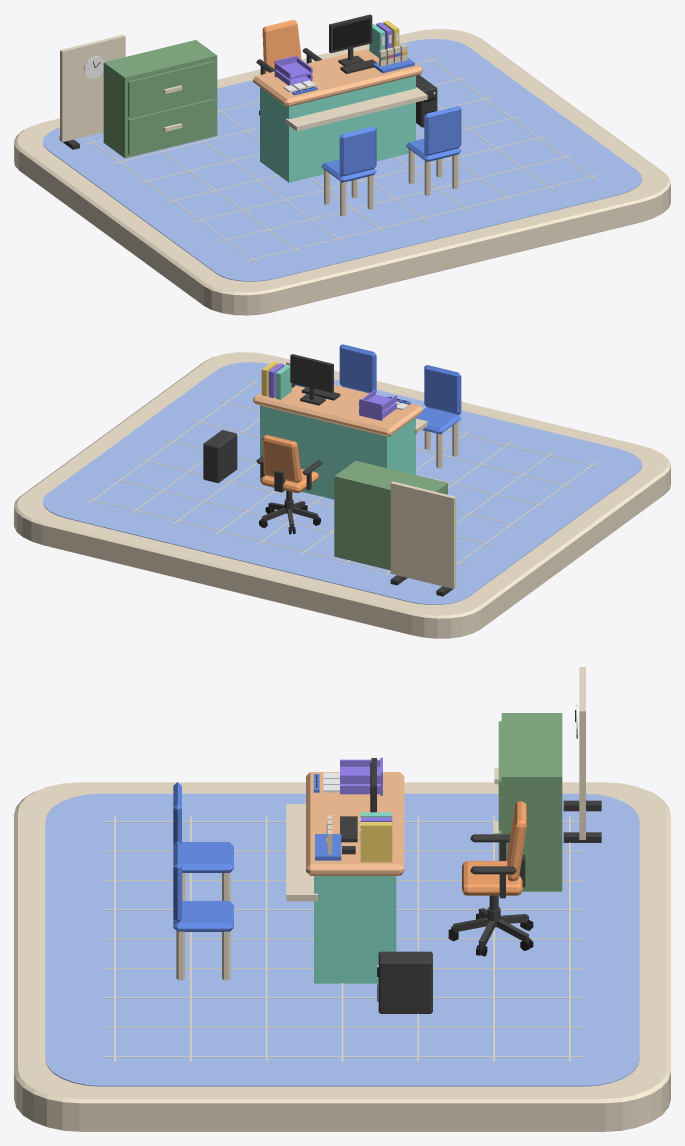
Rendered from room.fbx.
3 views of the same model, one above another, from view 1: azimuth 30°, elevation 25°; view 2: azimuth 150°, elevation 25°; view 3: azimuth 270°, elevation 25° (orthographic). The views are drawn at different scales.
Visible parts, largest first — view 1: COM-02 Floor Surface, COM-01 Rounded Base Direct, Cabinet, Counter body, Panel, Countertop, Visitor shelf, COM-04_Chair_blender_direct, Backrest, Backrest.001, Frame, Tower (+4 smaller); view 2: COM-02 Floor Surface, COM-01 Rounded Base Direct, Counter body, Cabinet, Panel, Countertop, COM-04_Chair_blender_direct, Backrest, Backrest.001, Tower, Frame, Seat (+1 smaller); view 3: COM-02 Floor Surface, COM-01 Rounded Base Direct, Cabinet, Counter body, Countertop, COM-04_Chair_blender_direct, Tower, Visitor shelf, Seat.001, Seat, File.002, Panel (+5 smaller).
Boxes of the visible parts, x1=… form: COM-02 Floor Surface: x1=42, y1=39, x2=642, y2=281; COM-01 Rounded Base Direct: x1=14, y1=29, x2=670, y2=315; Cabinet: x1=103, y1=40, x2=217, y2=158; Counter body: x1=260, y1=76, x2=415, y2=182; Panel: x1=60, y1=34, x2=125, y2=142; Countertop: x1=253, y1=48, x2=422, y2=107; Visitor shelf: x1=285, y1=87, x2=427, y2=131; COM-04_Chair_blender_direct: x1=256, y1=20, x2=322, y2=115; Backrest: x1=339, y1=126, x2=376, y2=176; Backrest.001: x1=424, y1=106, x2=461, y2=155; Frame: x1=329, y1=14, x2=372, y2=66; Tower: x1=416, y1=75, x2=437, y2=127; COM-02 Floor Surface: x1=42, y1=362, x2=642, y2=604; COM-01 Rounded Base Direct: x1=14, y1=352, x2=670, y2=638; Counter body: x1=260, y1=405, x2=415, y2=499; Cabinet: x1=334, y1=460, x2=447, y2=570; Panel: x1=390, y1=481, x2=456, y2=588; Countertop: x1=253, y1=385, x2=422, y2=436; COM-04_Chair_blender_direct: x1=256, y1=435, x2=322, y2=534; Backrest: x1=424, y1=365, x2=461, y2=414; Backrest.001: x1=339, y1=344, x2=376, y2=393; Tower: x1=203, y1=430, x2=237, y2=483; Frame: x1=290, y1=354, x2=333, y2=405; Seat: x1=416, y1=407, x2=461, y2=434; COM-02 Floor Surface: x1=45, y1=793, x2=639, y2=1086; COM-01 Rounded Base Direct: x1=14, y1=782, x2=670, y2=1131; Cabinet: x1=494, y1=713, x2=562, y2=891; Counter body: x1=314, y1=876, x2=396, y2=983; Countertop: x1=306, y1=772, x2=404, y2=875; COM-04_Chair_blender_direct: x1=448, y1=801, x2=533, y2=956; Tower: x1=378, y1=951, x2=432, y2=1013; Visitor shelf: x1=286, y1=804, x2=317, y2=901; Seat.001: x1=173, y1=901, x2=233, y2=931; Seat: x1=182, y1=842, x2=233, y2=872; File.002: x1=360, y1=822, x2=392, y2=862; Panel: x1=579, y1=667, x2=585, y2=839.
Bounding box in the file's own units: 600 × 187 × 520.
